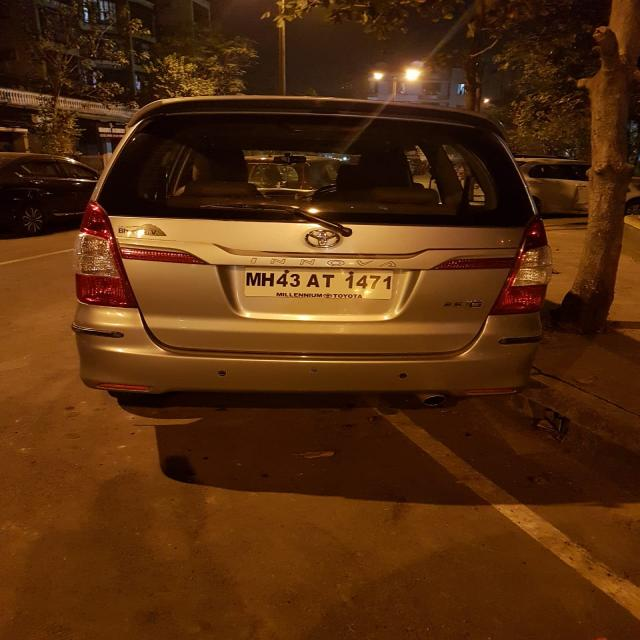Number-Plate: (244, 264, 396, 292)
